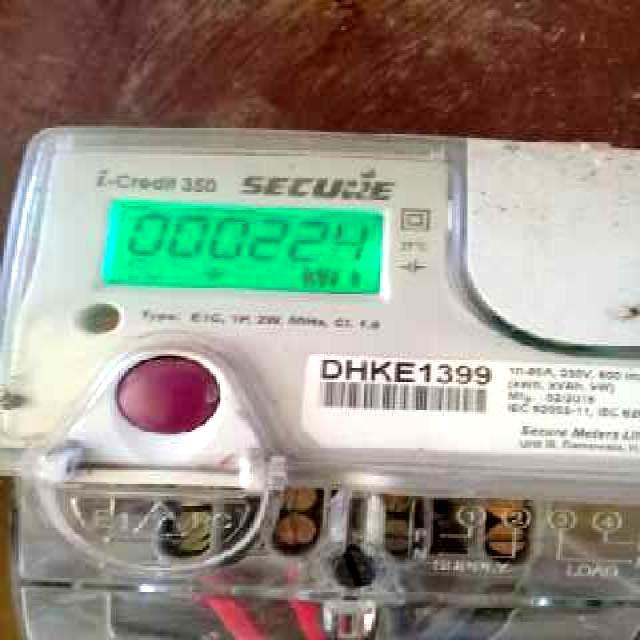LCD: (92, 190, 386, 305)
